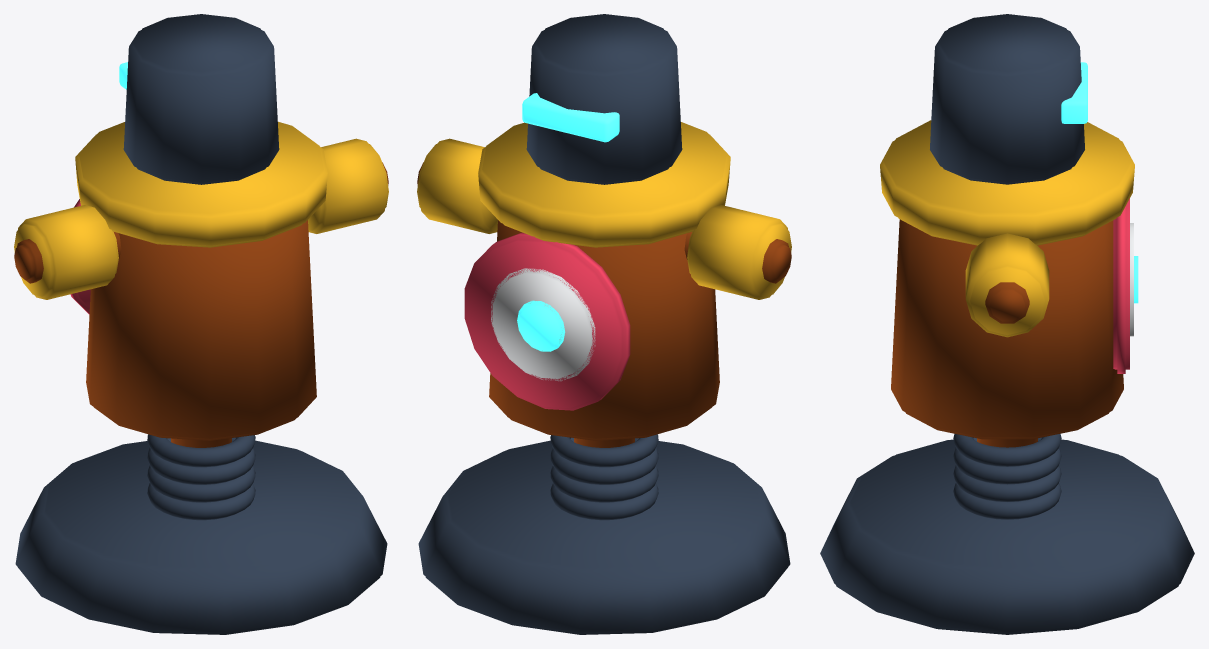
The model's file is npc_training_dummy.glb.
3 renders of one model, left to right at view 1: azimuth 30°, elevation 25°; view 2: azimuth 150°, elevation 25°; view 3: azimuth 270°, elevation 25°, orthographic.
Visible parts, largest first — view 1: BasePedestal, PaddedTorso, DummyHelm, StrawCollar, ArmPad_-1, ArmPad_1, SpringCoil_3, SpringCoil_2, SpringCoil_0, SpringCoil_1, CrossArmBar; view 2: BasePedestal, PaddedTorso, DummyHelm, StrawCollar, ShieldOuter, ShieldMid, ArmPad_-1, ArmPad_1, DummyVisor, SpringCoil_3, SpringCoil_2, SpringCoil_0 (+3 smaller); view 3: BasePedestal, PaddedTorso, DummyHelm, StrawCollar, ArmPad_1, ShieldOuter, SpringCoil_3, SpringCoil_2, SpringCoil_0, SpringCoil_1, CrossArmBar, DummyVisor.
Part boxes in pixels (left/top/right/bottom): BasePedestal: left=15, top=440, right=387, bottom=634; PaddedTorso: left=86, top=220, right=316, bottom=440; DummyHelm: left=123, top=14, right=279, bottom=184; StrawCollar: left=75, top=121, right=327, bottom=247; ArmPad_-1: left=14, top=205, right=118, bottom=299; ArmPad_1: left=308, top=138, right=388, bottom=233; SpringCoil_3: left=147, top=434, right=255, bottom=467; SpringCoil_2: left=147, top=437, right=255, bottom=484; SpringCoil_0: left=147, top=483, right=255, bottom=520; SpringCoil_1: left=147, top=465, right=255, bottom=502; CrossArmBar: left=14, top=162, right=388, bottom=283; BasePedestal: left=418, top=440, right=790, bottom=634; PaddedTorso: left=489, top=220, right=719, bottom=440; DummyHelm: left=526, top=14, right=682, bottom=184; StrawCollar: left=478, top=122, right=730, bottom=247; ShieldOuter: left=464, top=232, right=630, bottom=410; ShieldMid: left=491, top=268, right=595, bottom=381; ArmPad_-1: left=687, top=205, right=791, bottom=299; ArmPad_1: left=417, top=138, right=497, bottom=233; DummyVisor: left=522, top=93, right=619, bottom=142; SpringCoil_3: left=550, top=434, right=658, bottom=467; SpringCoil_2: left=550, top=437, right=658, bottom=484; SpringCoil_0: left=550, top=483, right=658, bottom=520; BasePedestal: left=820, top=439, right=1194, bottom=634; PaddedTorso: left=891, top=219, right=1123, bottom=439; DummyHelm: left=930, top=14, right=1084, bottom=184; StrawCollar: left=880, top=120, right=1134, bottom=245; ArmPad_1: left=965, top=233, right=1049, bottom=337; ShieldOuter: left=1113, top=198, right=1129, bottom=373; SpringCoil_3: left=953, top=433, right=1061, bottom=466; SpringCoil_2: left=953, top=437, right=1061, bottom=484; SpringCoil_0: left=953, top=483, right=1061, bottom=519; SpringCoil_1: left=953, top=465, right=1061, bottom=501; CrossArmBar: left=985, top=282, right=1029, bottom=323; DummyVisor: left=1061, top=62, right=1087, bottom=123.
Bounding box in the file's own units: 1.48 × 2.04 × 1.35.
